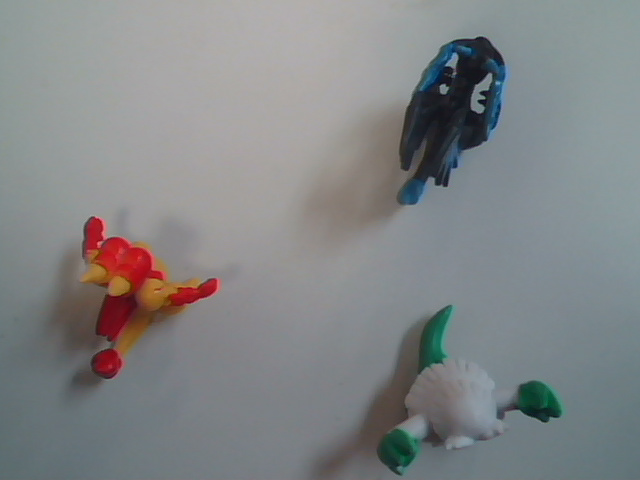abomasnow: (361, 298, 594, 480)
charizard: (350, 19, 571, 229)
magmar: (45, 201, 262, 394)
